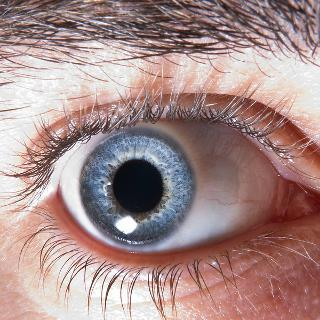pupil: (113, 161, 164, 213)
